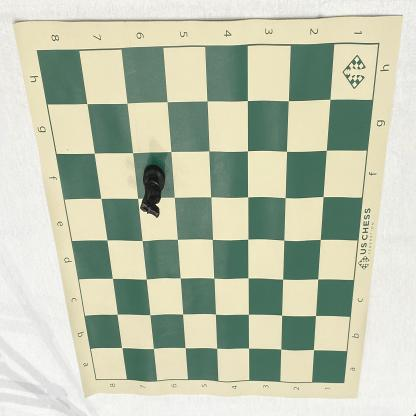black-knight: (140, 162, 165, 218)
